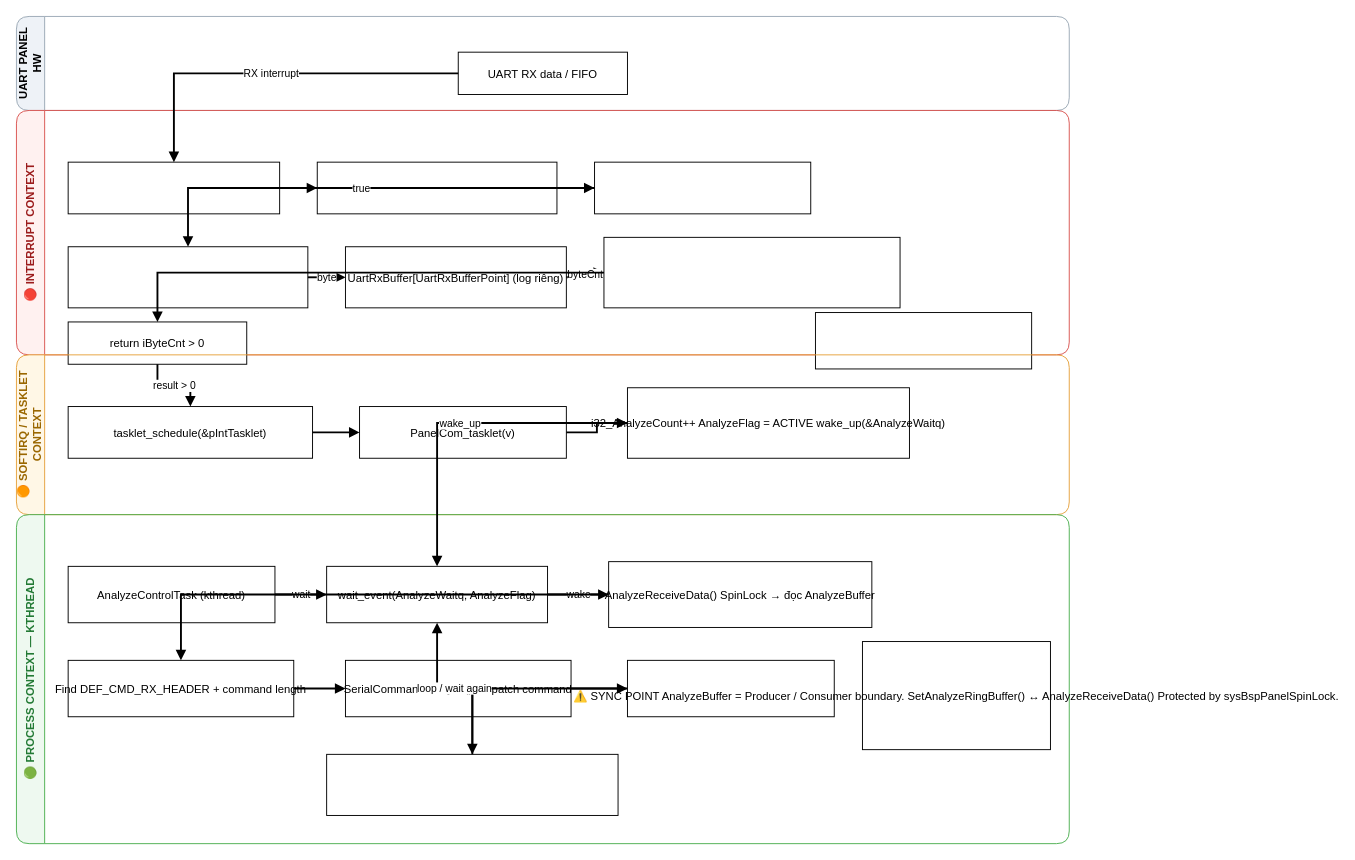
The diagram is 1355 pixels wide and 860 high, and some of its shapes have lost their labels. Each missing label, with the centre of its shape:
"i32_AnalyzeCount-- Hết việc → AnalyzeFlag = WAIT" belongs at [472,784].
"Key / Touch / NFC / ..." belongs at [730,688].
"RxSerialCommunication() → sysBspPanelUartRxChar()" belongs at [187,277].
"SerialComInterrupt() cũ #if 0 từ 2012 — KHÔNG ACTIVE" belongs at [923,340].
"SerialComProsess(&pPnlComManage)" belongs at [436,187].
"SetAnalyzeRingBuffer(buf, byteCnt) AnalyzeBuffer + AnlyzeStorageByte" belongs at [751,272].
"sysBspPanelUartRxCheck() == true?" belongs at [702,187].
"THRF_SerialCommunication()" belongs at [173,187].
